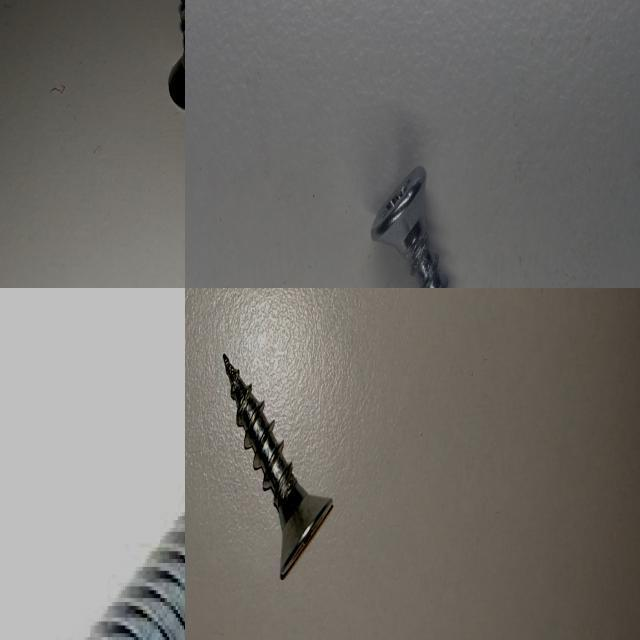Screw: (223, 353, 333, 578), (371, 165, 448, 288)
